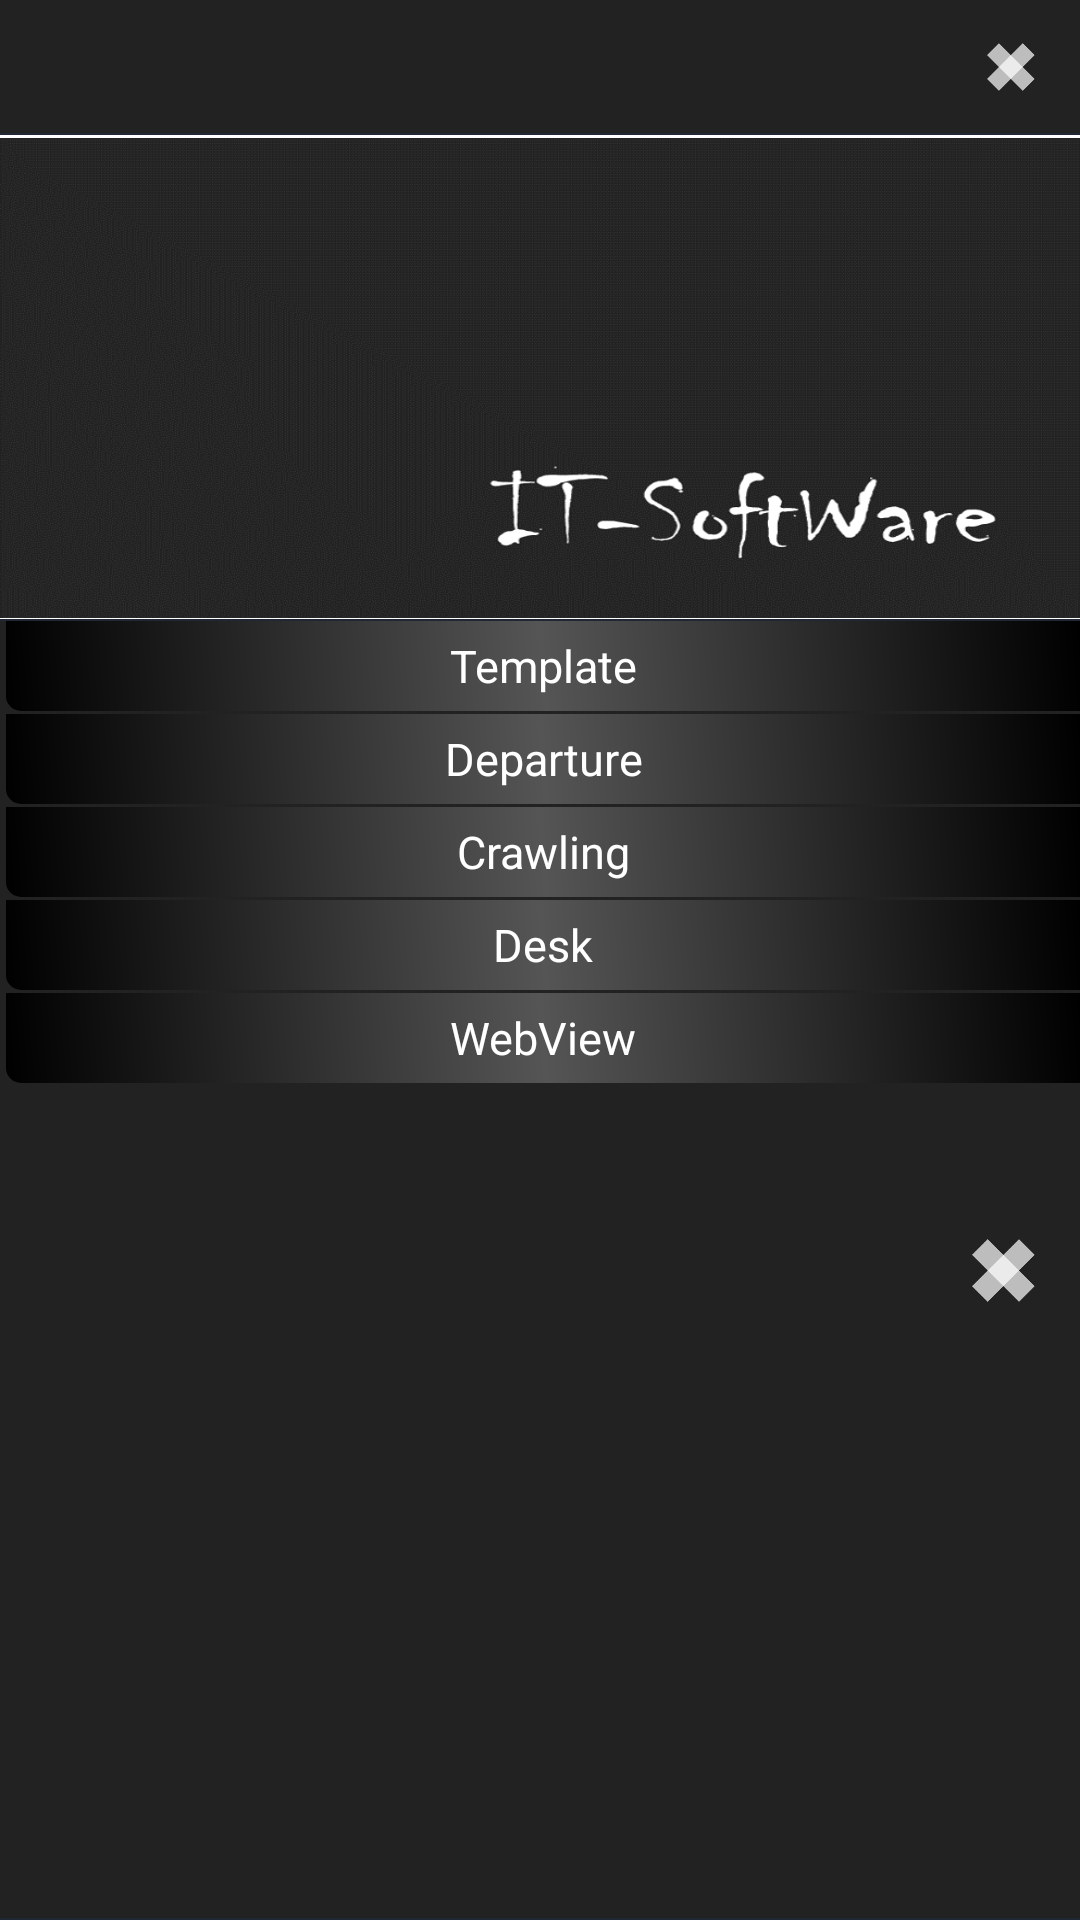

Screen size 1080px×1920px. Icon name, then its center in pixels as point (x, y):
closebtn: point (1011, 67), point (1003, 1270)
